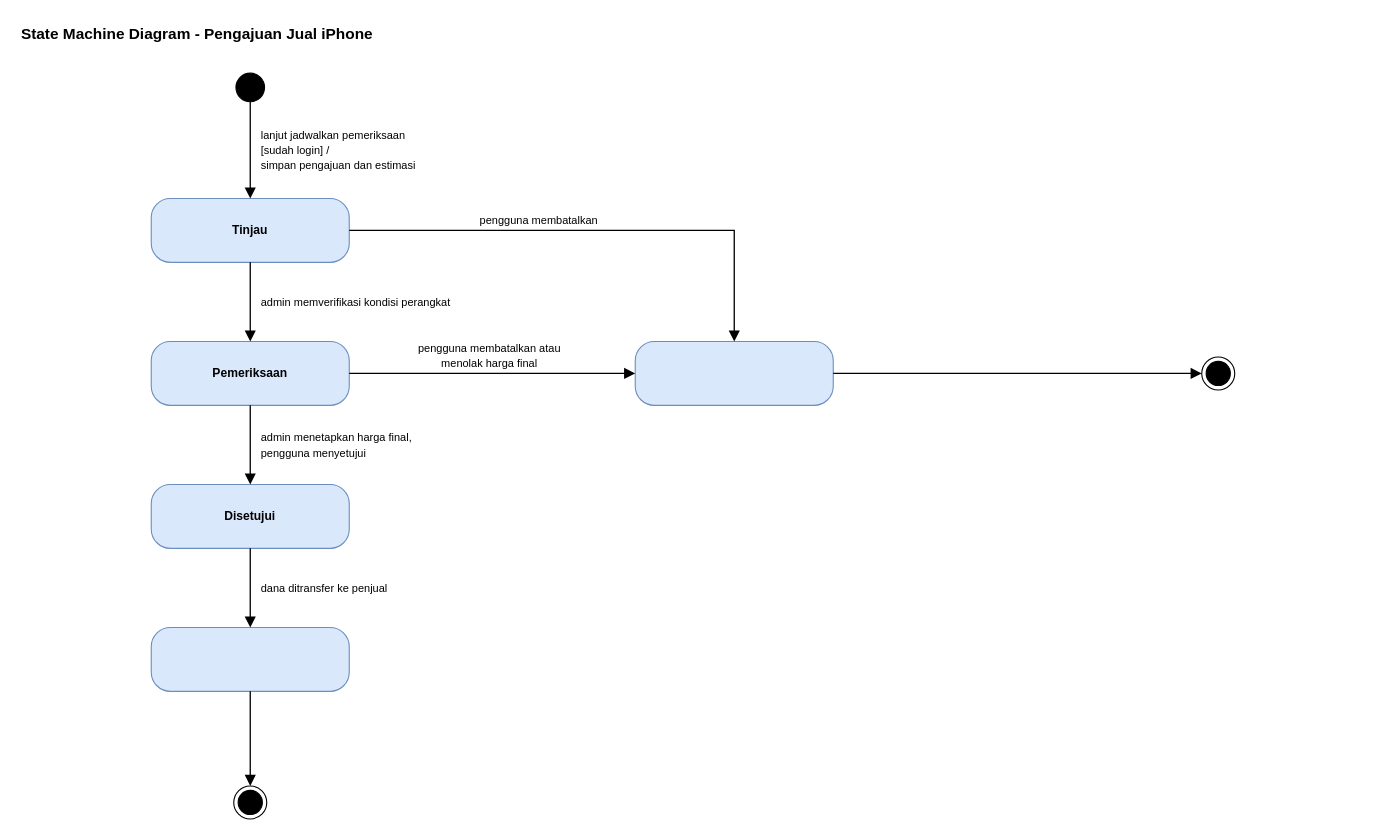
This 1379x838 diagram has some shape labels left out. The shapes that lost their labels are listed below. From the top down, each one's box as (x1, y1, x2, y2) in pixels, then its label:
(634, 340, 833, 405): Dibatalkan
(150, 626, 349, 691): Selesai
